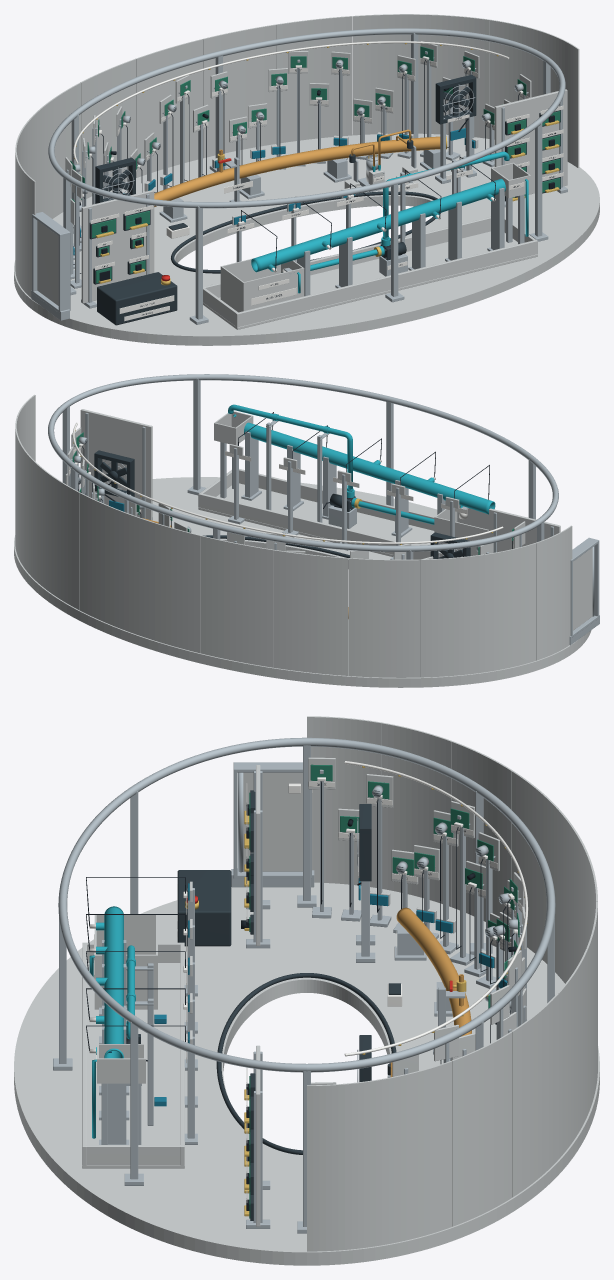
Rendered from utility-tunnel.glb.
The picture shows the model from 3 angles, top to bottom: view 1: azimuth 30°, elevation 25°; view 2: azimuth 150°, elevation 25°; view 3: azimuth 270°, elevation 25°; orthographic projection. The views are drawn at different scales.
Visible parts, largest first — view 1: 环形承重底座, 顶框, 围护-外墙-04, 围护-外墙-05, 围护-外墙-03, 围护-外墙-06, 托盘边-0.455, 围护-外墙-02, 围护-外墙-07, 电控架A, PIPE-G01, WATER-重力测量管 (+27 smaller); view 2: 环形承重底座, 围护-外墙-07, 围护-外墙-06, 围护-外墙-08, 围护-外墙-05, 围护-外墙-09, 顶框, 围护-外墙-04, 围护-外墙-10, 围护-外墙-03, 围护-外墙-11, 电控架B (+25 smaller); view 3: 环形承重底座, 围护-外墙-00, 顶框, 围护-外墙-01, 围护-外墙-02, 围护-外墙-10, 围护-外墙-03, TRAY-01, 围护-外墙-11, 围护-外墙-09, 围护-外墙-08, 围护-外墙-04 (+28 smaller).
Part boxes in pixels (x1,y1,x2,y2): 环形承重底座: (14,133,599,345); 顶框: (48,28,565,208); 围护-外墙-04: (276,16,352,143); 围护-外墙-05: (203,24,276,158); 围护-外墙-03: (352,14,425,135); 围护-外墙-06: (136,39,202,177); 托盘边-0.455: (235,240,537,327); 围护-外墙-02: (425,14,489,138); 围护-外墙-07: (80,59,136,201); 电控架A: (81,190,154,303); PIPE-G01: (154,136,440,206); WATER-重力测量管: (251,178,505,272); 环形承重底座: (14,477,591,687); 围护-外墙-07: (273,550,348,675); 围护-外墙-06: (200,535,273,667); 围护-外墙-08: (348,558,420,677); 围护-外墙-05: (134,516,200,653); 围护-外墙-09: (420,554,484,677); 顶框: (48,374,558,551); 围护-外墙-04: (79,492,134,633); 围护-外墙-10: (484,543,536,672); 围护-外墙-03: (40,467,79,610); 围护-外墙-11: (536,525,572,660); 电控架B: (80,409,152,520); 环形承重底座: (14,882,599,1265); 围护-外墙-00: (307,1079,382,1251); 顶框: (58,737,555,1072); 围护-外墙-01: (382,1060,452,1245); 围护-外墙-02: (452,1031,512,1226); 围护-外墙-10: (382,722,451,906); 围护-外墙-03: (511,993,558,1196); TRAY-01: (82,961,184,1168); 围护-外墙-11: (307,716,381,887); 围护-外墙-09: (451,741,512,921); 围护-外墙-08: (511,770,558,973); 围护-外墙-04: (557,949,587,1158).
Size of the model in its own units: 1.8 by 0.404 by 1.2.
